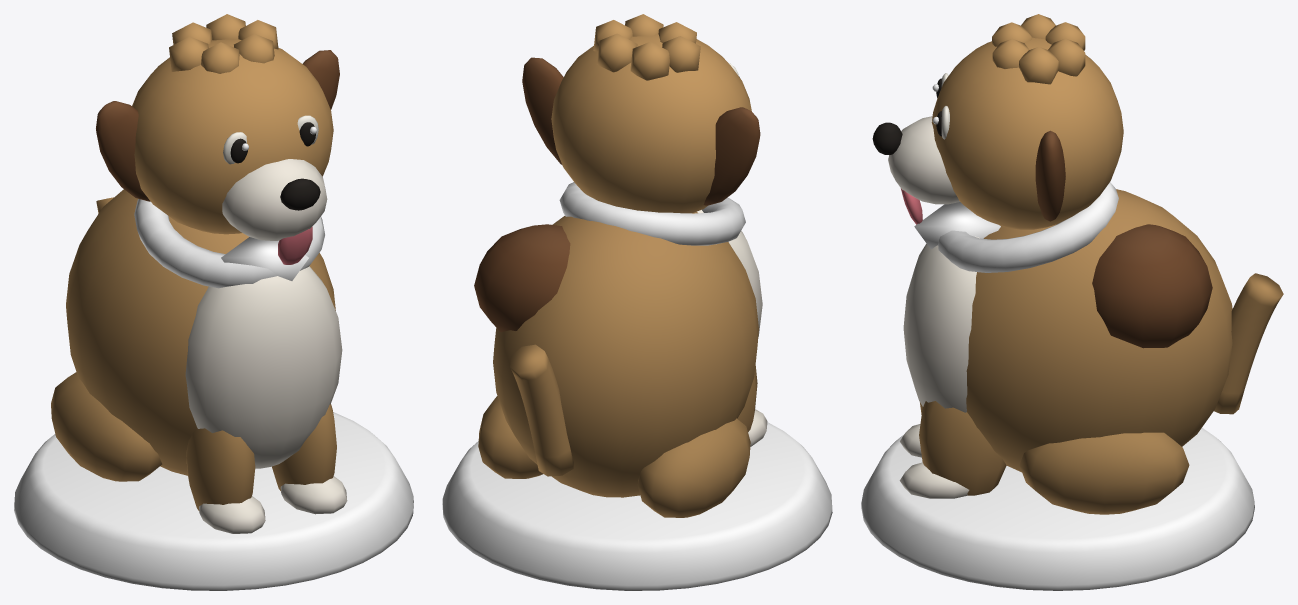
File: kiltro-BjINg3CK.glb
3 renders of one model, left to right at view 1: azimuth 30°, elevation 25°; view 2: azimuth 150°, elevation 25°; view 3: azimuth 270°, elevation 25°, orthographic. The views are drawn at different scales.
Parts seen in each view (by area): view 1: Body, Tint; view 2: Body, Tint; view 3: Body, Tint.
Boxes of the visible parts, x1,y1,x2,y2 form: Body: (51,14,347,533); Tint: (14,199,413,590); Body: (474,14,767,517); Tint: (442,182,832,590); Body: (872,14,1283,514); Tint: (861,182,1254,590).
Size of the model in its own units: 1.02 by 1.37 by 1.09.
2 materials, 2 textured.
